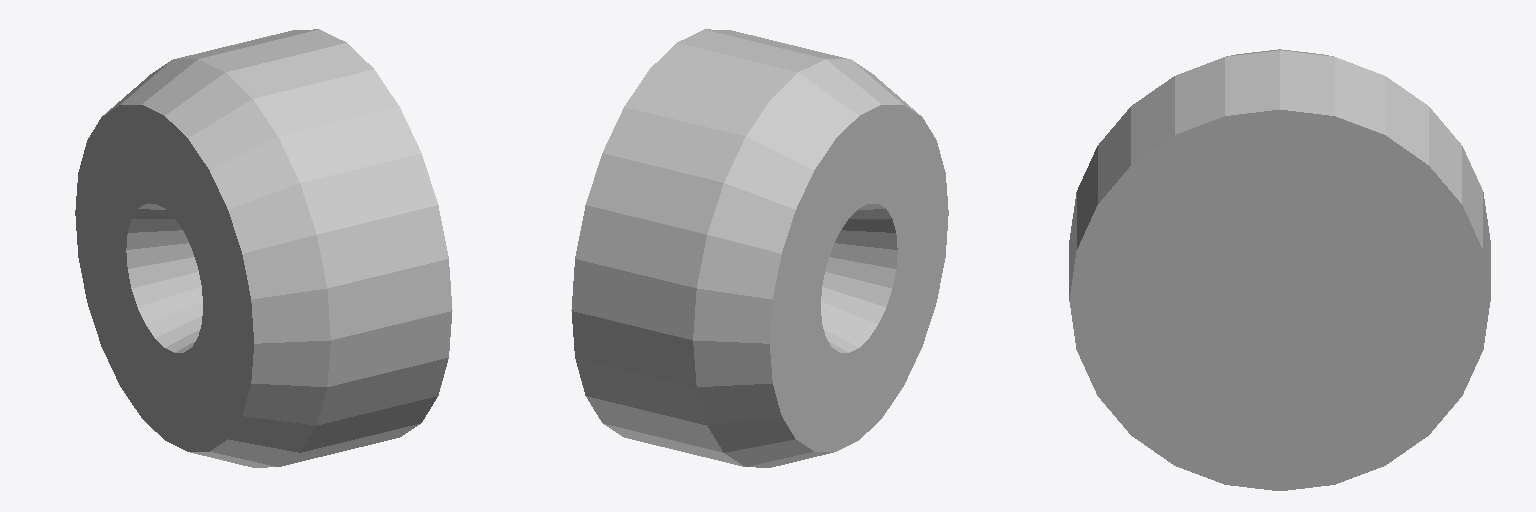
File: wheelRacing.obj
The picture shows the model from 3 angles: view 1: azimuth 30°, elevation 25°; view 2: azimuth 150°, elevation 25°; view 3: azimuth 270°, elevation 25°; orthographic projection.
Visible parts, largest first — view 1: wheelRacing; view 2: wheelRacing; view 3: wheelRacing.
Part boxes in pixels (bbox=[...]): wheelRacing: bbox=[75, 29, 452, 467]; wheelRacing: bbox=[571, 29, 948, 467]; wheelRacing: bbox=[1069, 49, 1490, 490].
Size of the model in its own units: 0.225 by 0.45 by 0.45.